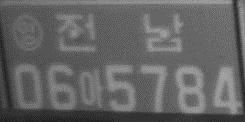0: (13, 62, 43, 110)
4: (212, 66, 241, 114)
5: (105, 64, 137, 113)
6: (46, 62, 78, 112)
7: (139, 64, 170, 114)
8: (174, 64, 206, 114)
아: (79, 67, 105, 109)
영: (11, 13, 45, 51)
전남_D: (54, 12, 184, 52)
